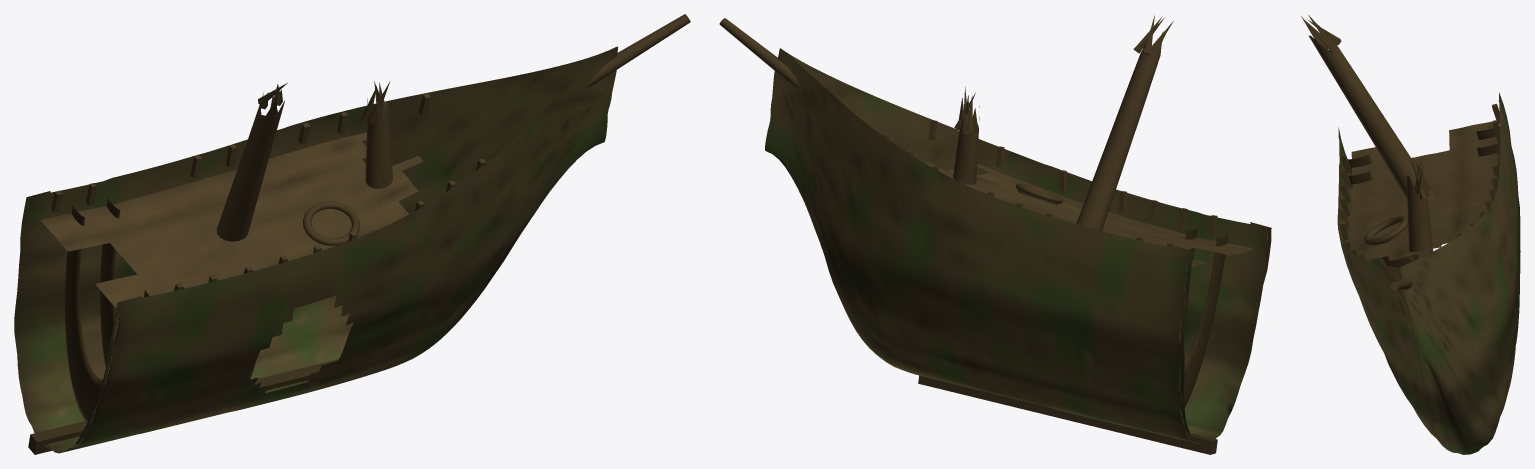
Rendered from sunken-galleon.glb.
3 views of the same model, side by side, from view 1: azimuth 30°, elevation 25°; view 2: azimuth 150°, elevation 25°; view 3: azimuth 270°, elevation 25° (orthographic). The views are drawn at different scales.
Visible parts, largest first — view 1: hull, deck, frame-ribs, mast-main, mast-stub, railing, keel, bowsprit, crows-nest; view 2: hull, mast-main, deck, keel, frame-ribs, mast-stub, railing, bowsprit; view 3: hull, deck, mast-main, mast-stub, railing, frame-ribs, crows-nest, bowsprit.
Boxes of the visible parts, left/top/right/bottom form: hull: left=14, top=46, right=617, bottom=453; deck: left=40, top=132, right=423, bottom=308; frame-ribs: left=65, top=198, right=184, bottom=423; mast-main: left=216, top=83, right=287, bottom=241; mast-stub: left=362, top=81, right=392, bottom=188; railing: left=51, top=94, right=486, bottom=290; keel: left=28, top=359, right=338, bottom=454; bowsprit: left=579, top=14, right=690, bottom=87; crows-nest: left=303, top=201, right=360, bottom=245; hull: left=765, top=48, right=1271, bottom=444; mast-main: left=1076, top=14, right=1173, bottom=230; deck: left=925, top=162, right=1253, bottom=266; keel: left=918, top=375, right=1217, bottom=454; frame-ribs: left=1183, top=228, right=1228, bottom=408; mast-stub: left=953, top=86, right=979, bottom=184; railing: left=882, top=120, right=1217, bottom=247; bowsprit: left=719, top=18, right=798, bottom=87; hull: left=1337, top=92, right=1520, bottom=454; deck: left=1351, top=121, right=1498, bottom=260; mast-main: left=1301, top=15, right=1436, bottom=204; mast-stub: left=1407, top=156, right=1433, bottom=255; railing: left=1339, top=103, right=1500, bottom=259; frame-ribs: left=1347, top=128, right=1500, bottom=291; crows-nest: left=1364, top=216, right=1408, bottom=245; bowsprit: left=1390, top=277, right=1412, bottom=290.
Size of the model in its own units: 400 by 250 by 140.
